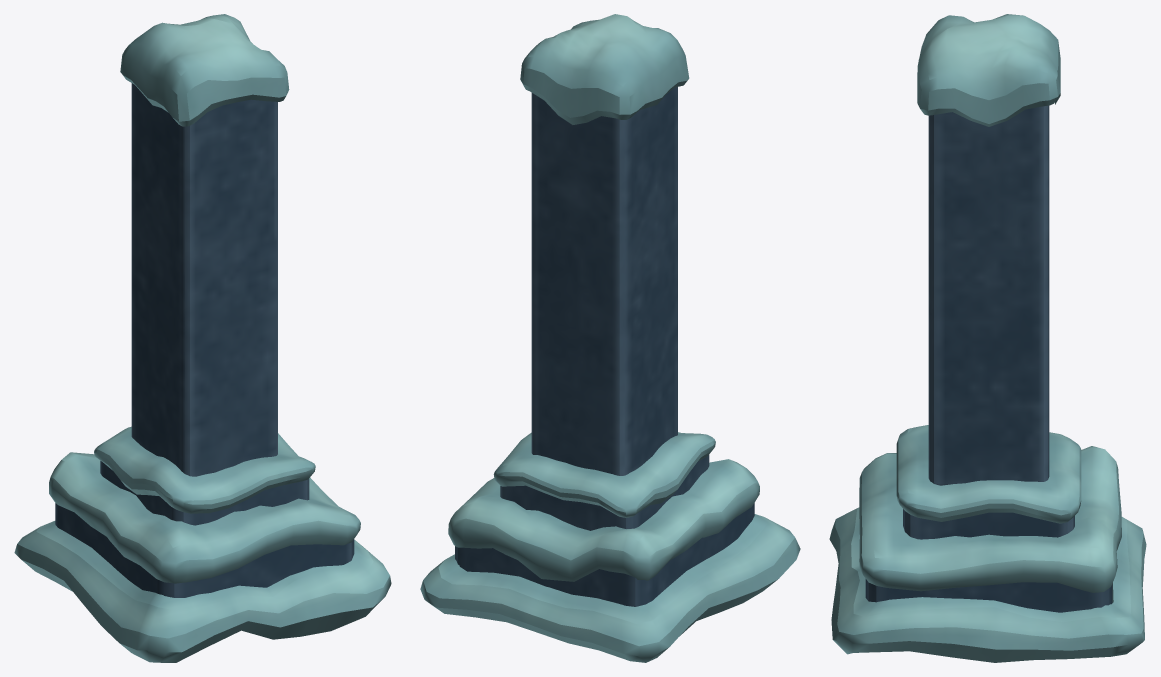
The model's file is SM_Tomb3_V2.fbx.
3 renders of one model, left to right at view 1: azimuth 30°, elevation 25°; view 2: azimuth 150°, elevation 25°; view 3: azimuth 270°, elevation 25°, orthographic. The views are drawn at different scales.
Visible parts, largest first — view 1: SM_Tomb3, SM_TombSnow3, SM_TombSnow1, SM_TombSnow2, SM_TombSnow4; view 2: SM_Tomb3, SM_TombSnow3, SM_TombSnow1, SM_TombSnow2, SM_TombSnow4; view 3: SM_Tomb3, SM_TombSnow3, SM_TombSnow1, SM_TombSnow2, SM_TombSnow4.
Boxes of the visible parts, x1=… form: SM_Tomb3: x1=55, y1=83, x2=354, y2=597; SM_TombSnow3: x1=14, y1=521, x2=391, y2=662; SM_TombSnow1: x1=49, y1=452, x2=360, y2=583; SM_TombSnow2: x1=120, y1=14, x2=289, y2=126; SM_TombSnow4: x1=94, y1=426, x2=315, y2=513; SM_Tomb3: x1=455, y1=87, x2=754, y2=606; SM_TombSnow3: x1=420, y1=514, x2=800, y2=662; SM_TombSnow1: x1=448, y1=459, x2=759, y2=581; SM_TombSnow2: x1=520, y1=14, x2=689, y2=124; SM_TombSnow4: x1=493, y1=432, x2=715, y2=517; SM_Tomb3: x1=865, y1=105, x2=1112, y2=612; SM_TombSnow3: x1=829, y1=507, x2=1146, y2=662; SM_TombSnow1: x1=859, y1=446, x2=1121, y2=592; SM_TombSnow2: x1=917, y1=14, x2=1060, y2=126; SM_TombSnow4: x1=896, y1=425, x2=1081, y2=523.
Size of the model in its own units: 1.29 by 2.72 by 1.33.
